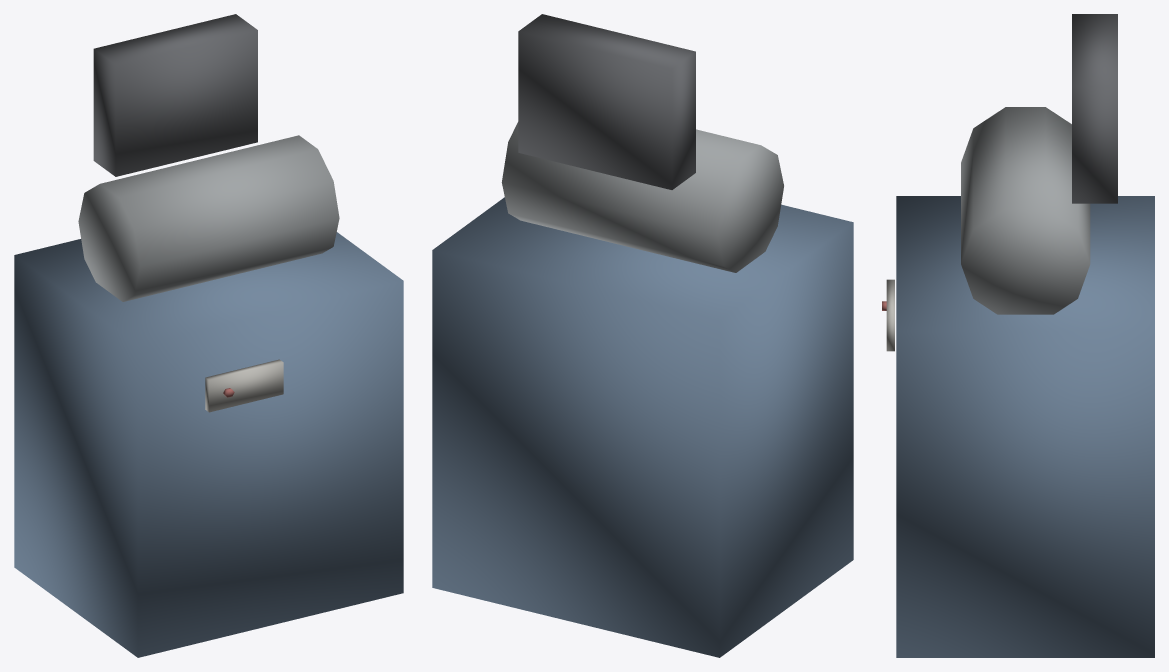
The model's file is wheel_balancer__wide.glb.
3 views of the same model, side by side, from view 1: azimuth 30°, elevation 25°; view 2: azimuth 150°, elevation 25°; view 3: azimuth 270°, elevation 25° (orthographic). The views are drawn at different scales.
Parts seen in each view (by area): view 1: world; view 2: world; view 3: world.
Boxes of the visible parts, x1,y1,x2,y2 form: world: [14, 14, 403, 657]; world: [432, 14, 853, 657]; world: [882, 14, 1154, 657].
Bounding box in the file's own units: 0.6944 × 1.29 × 0.591.
